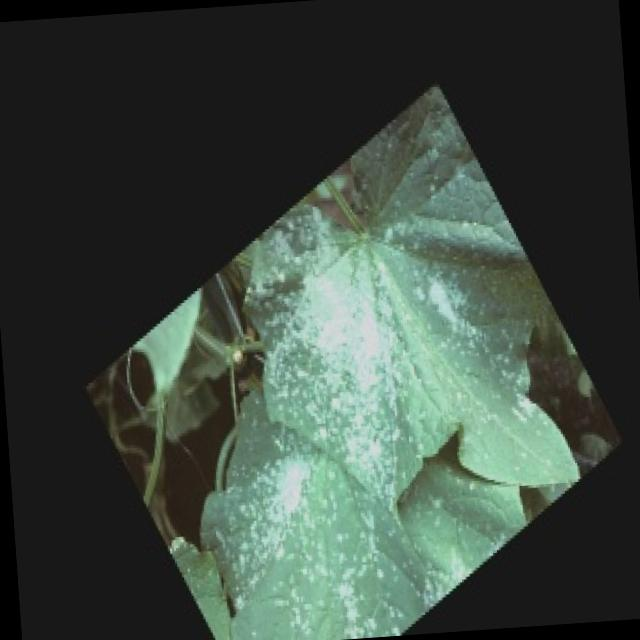Powdery_Mildew: (166, 95, 596, 640)
